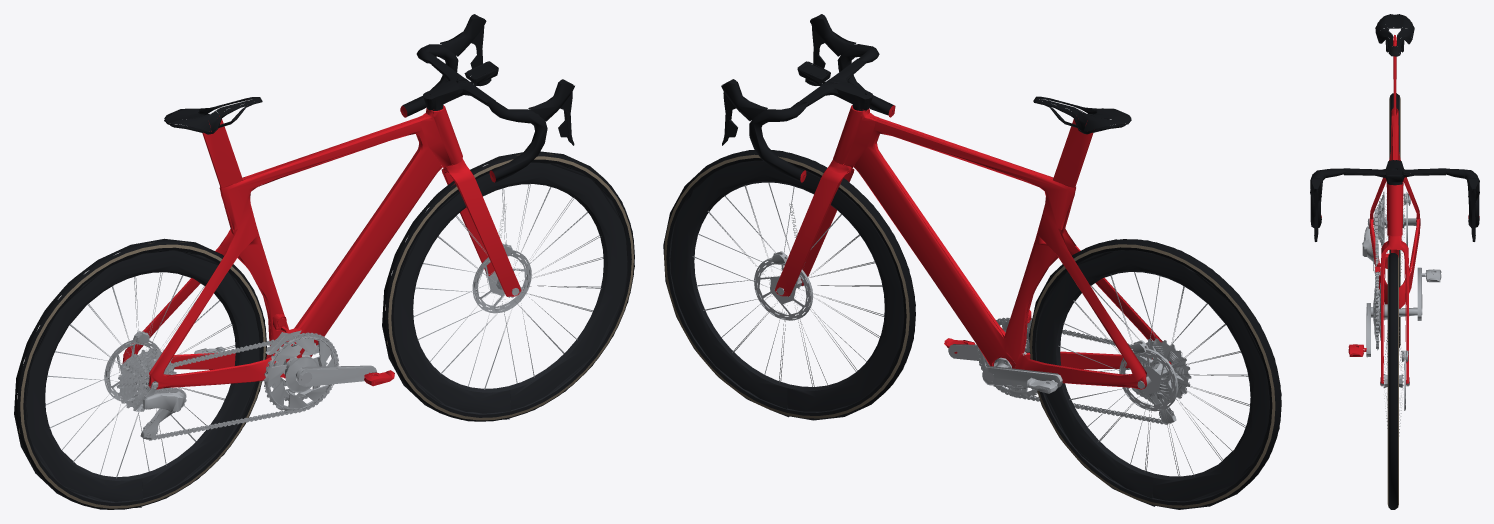
Rendered from road-bike-clean-v44.glb.
The picture shows the model from 3 angles, left to right: view 1: azimuth 30°, elevation 25°; view 2: azimuth 150°, elevation 25°; view 3: azimuth 270°, elevation 25°; orthographic projection. The views are drawn at different scales.
Parts seen in each view (by area): view 1: Bike finish Object_8, Bike finish Object_7; view 2: Bike finish Object_7, Bike finish Object_8; view 3: Bike finish Object_7, Bike finish Object_8.
Part boxes in pixels (x1,y1,x2,y2): Bike finish Object_8: (14,151,634,509); Bike finish Object_7: (104,14,607,440); Bike finish Object_7: (670,14,1191,424); Bike finish Object_8: (663,150,1281,509); Bike finish Object_7: (1310,14,1479,408); Bike finish Object_8: (1366,93,1422,509).
Bounding box in the file's own units: 1.79 × 1.06 × 0.4799.
